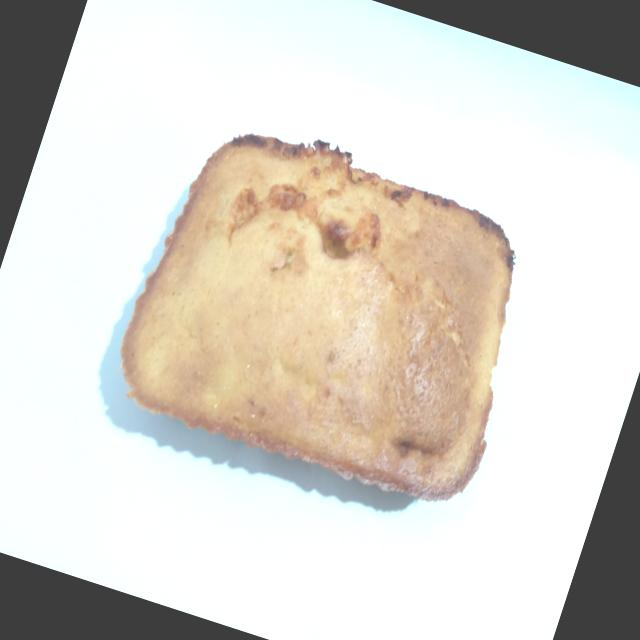Sopa: (95, 94, 571, 534)
